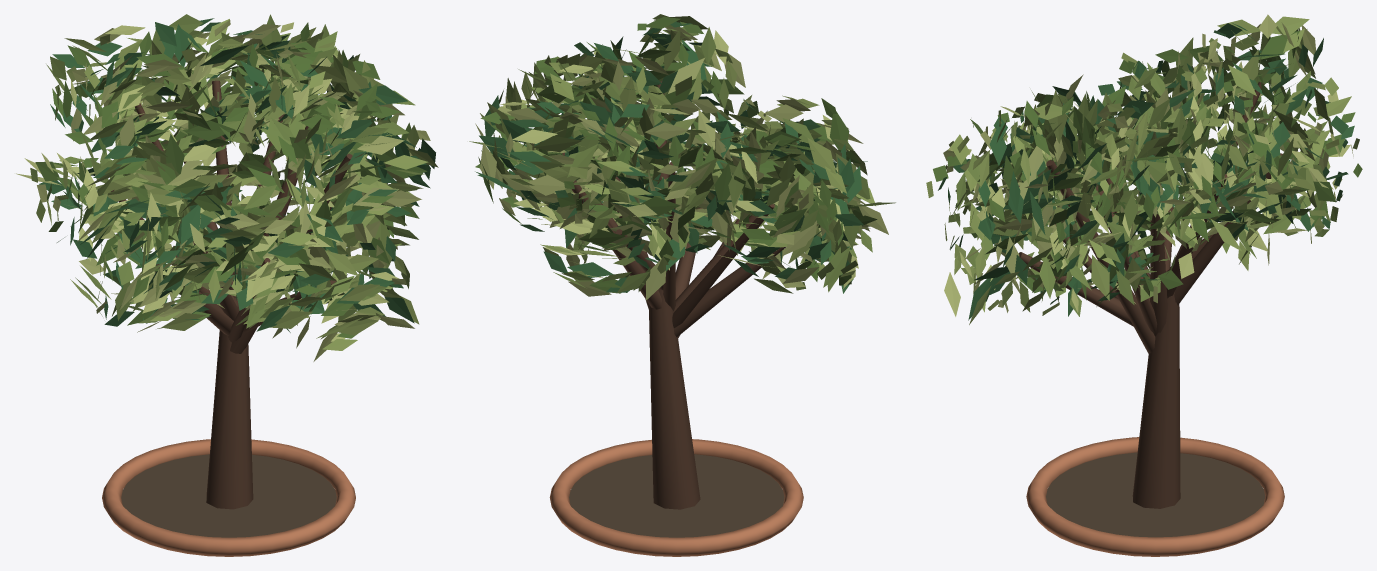
File: tree.glb
3 renders of one model, left to right at view 1: azimuth 30°, elevation 25°; view 2: azimuth 150°, elevation 25°; view 3: azimuth 270°, elevation 25°, orthographic.
Parts seen in each view (by area): view 1: IndividualLeaves (×12), Soil, TerracottaBedRim, Branch (×3); view 2: IndividualLeaves (×12), Branch (×7), Soil, TerracottaBedRim; view 3: IndividualLeaves (×11), Soil, Branch (×5), TerracottaBedRim.
Boxes of the visible parts, x1=… form: IndividualLeaves (×12): x1=16, y1=14, x2=438, y2=361; Soil: x1=121, y1=454, x2=336, y2=537; TerracottaBedRim: x1=102, y1=439, x2=355, y2=556; Branch (×3): x1=155, y1=153, x2=352, y2=509; IndividualLeaves (×12): x1=469, y1=14, x2=895, y2=300; Branch (×7): x1=571, y1=162, x2=785, y2=509; Soil: x1=569, y1=454, x2=784, y2=537; TerracottaBedRim: x1=549, y1=439, x2=803, y2=556; IndividualLeaves (×11): x1=926, y1=14, x2=1362, y2=324; Soil: x1=1046, y1=452, x2=1265, y2=537; Branch (×5): x1=1019, y1=153, x2=1282, y2=508; TerracottaBedRim: x1=1026, y1=437, x2=1284, y2=556.
Size of the model in its own units: 2.26 by 2.84 by 2.45.
